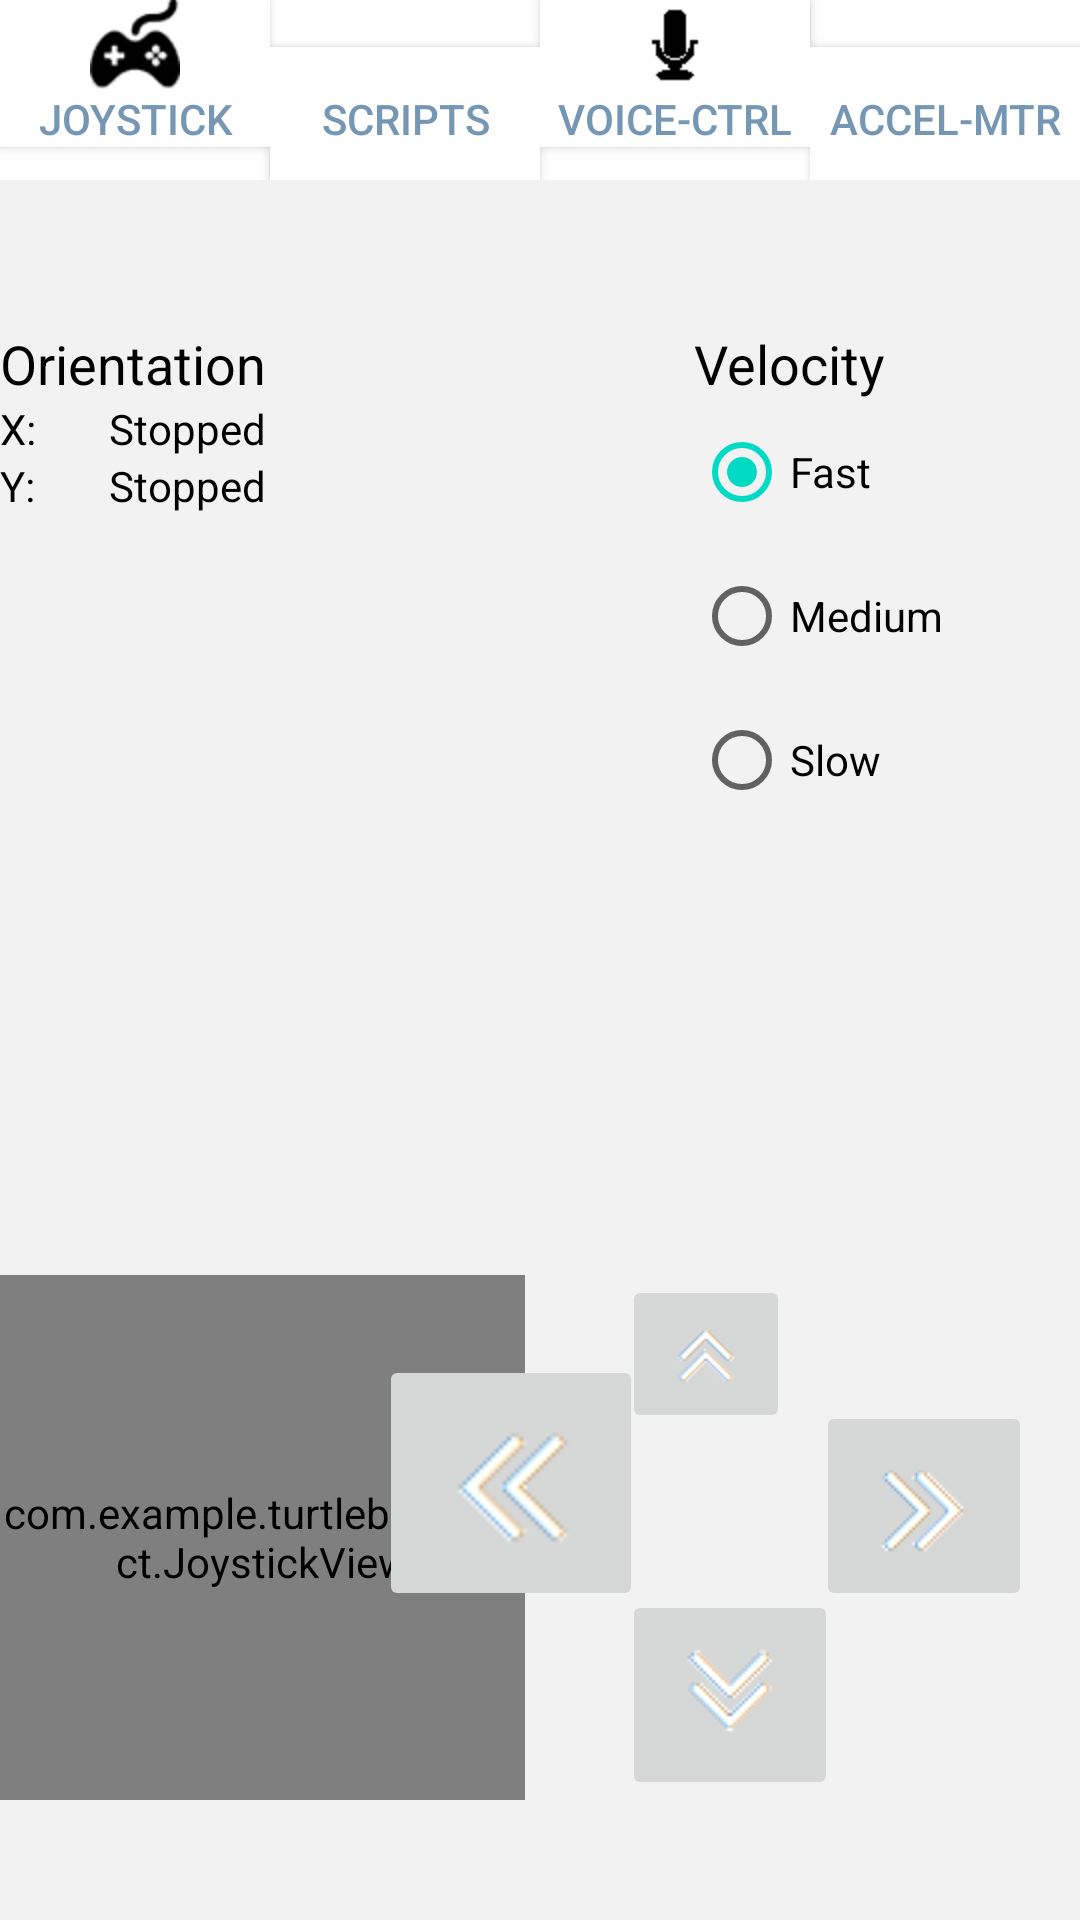

Named icons in this screenshot (1080 x 1920) and their centers, point (x, y):
down: point (730, 1695)
left: point (511, 1483)
right: point (924, 1506)
